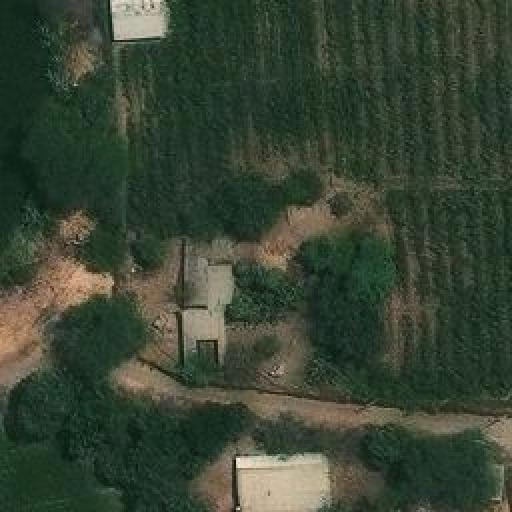manzanas: (177, 244, 232, 379), (228, 447, 336, 509), (109, 0, 173, 45)
